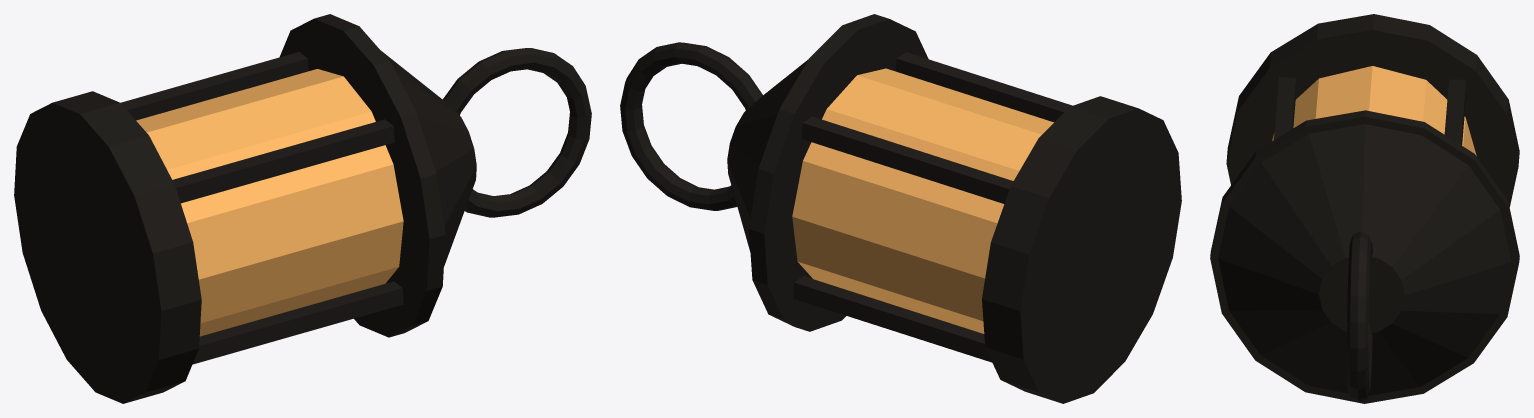
Rendered from coop_partner_lantern.dae.
The picture shows the model from 3 angles, left to right: view 1: azimuth 30°, elevation 25°; view 2: azimuth 150°, elevation 25°; view 3: azimuth 270°, elevation 25°; orthographic projection. The views are drawn at different scales.
Visible parts, largest first — view 1: coop_partner_lantern_coop_partner_lantern_metal, coop_partner_lantern_coop_partner_lantern_glass; view 2: coop_partner_lantern_coop_partner_lantern_metal, coop_partner_lantern_coop_partner_lantern_glass; view 3: coop_partner_lantern_coop_partner_lantern_metal, coop_partner_lantern_coop_partner_lantern_glass.
Part boxes in pixels (bbox=[...]): coop_partner_lantern_coop_partner_lantern_metal: bbox=[14, 14, 591, 403]; coop_partner_lantern_coop_partner_lantern_glass: bbox=[136, 69, 403, 336]; coop_partner_lantern_coop_partner_lantern_metal: bbox=[620, 14, 1181, 403]; coop_partner_lantern_coop_partner_lantern_glass: bbox=[792, 68, 1053, 333]; coop_partner_lantern_coop_partner_lantern_metal: bbox=[1210, 14, 1519, 403]; coop_partner_lantern_coop_partner_lantern_glass: bbox=[1272, 66, 1476, 156].
Bounding box in the file's own units: 0.2538 × 0.1476 × 0.1442.
Materials: 2 (2 with a texture image).
